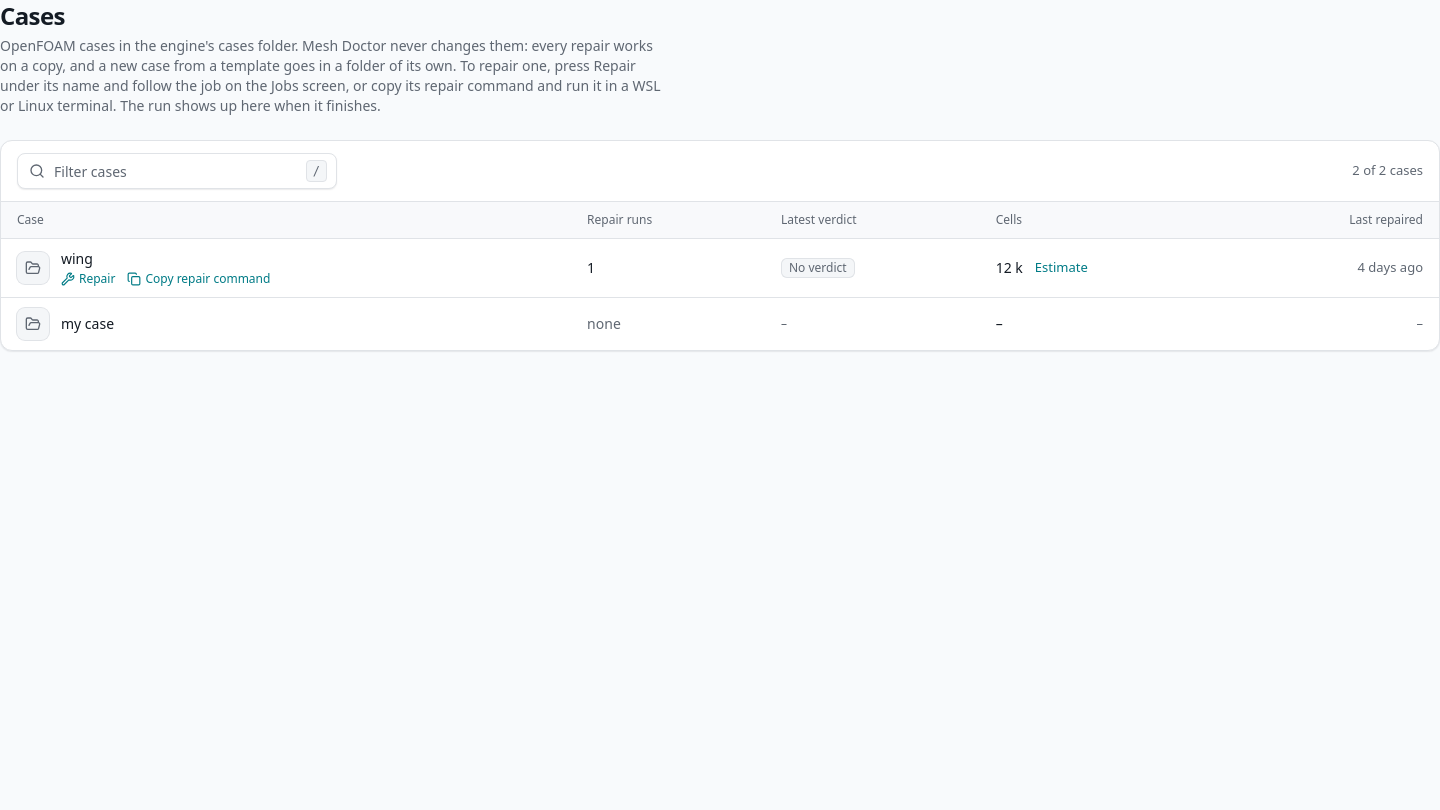
Test: starting a repair from the Cases screen › won't start a run with a name that's taken or that the engine refuses, and says why
Click the button with aria-label "Repair wing" at (88, 278), box x1=61 y1=270 x2=115 y2=286
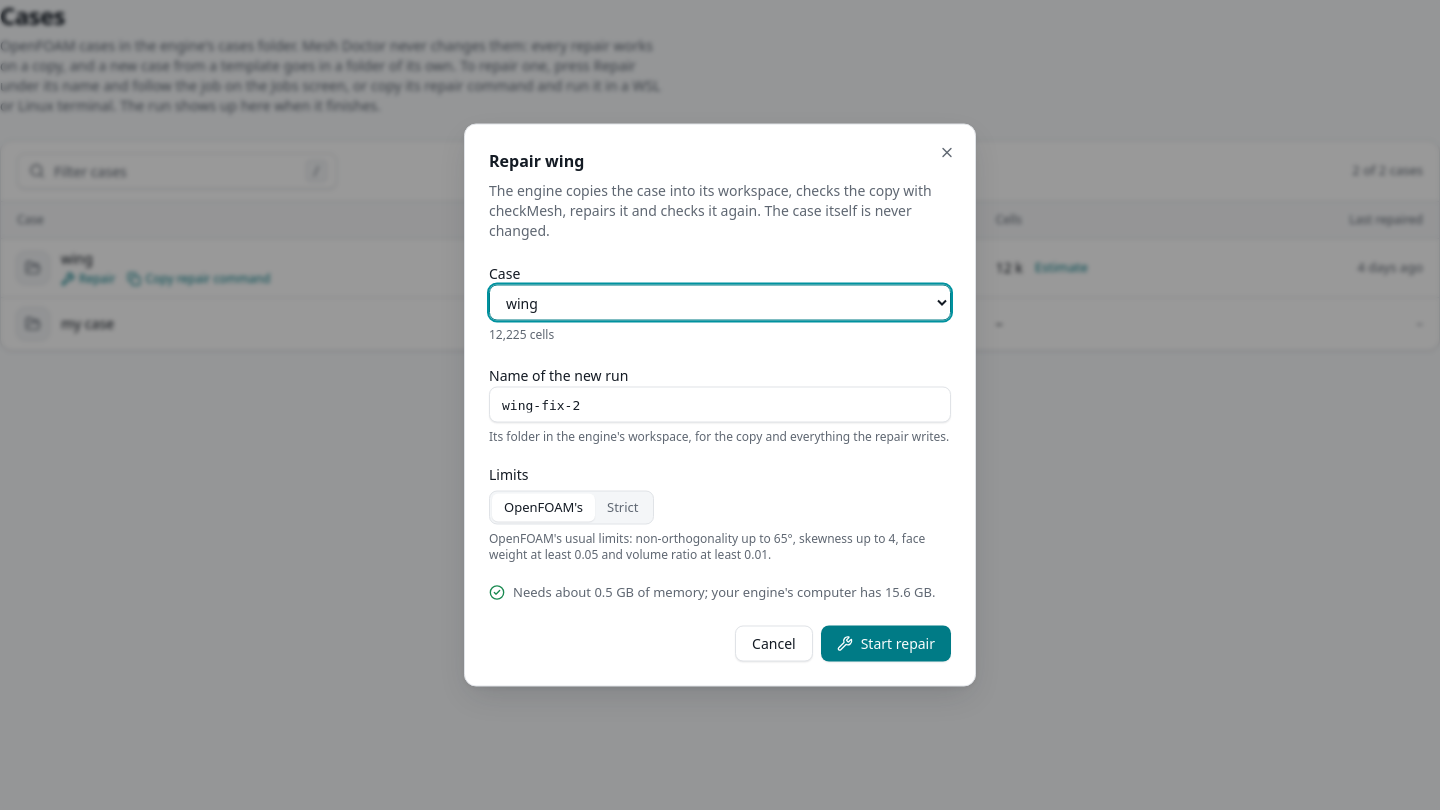
Replace the text in the field labelled "Name of the new run" with "wing-fix" at (720, 404), box x1=489 y1=386 x2=951 y2=422
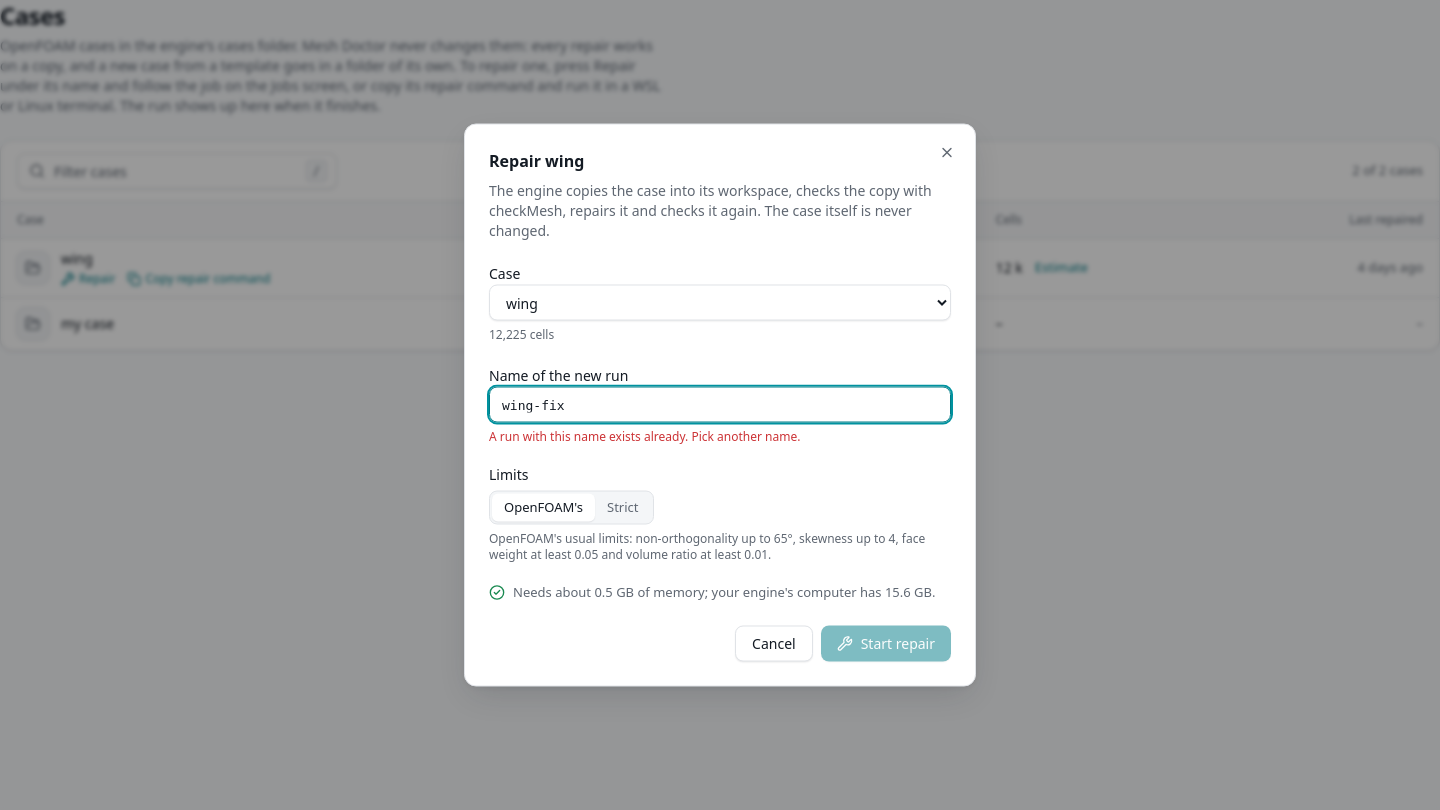
Check: the button "Start repair" is disabled, box x1=821 y1=626 x2=951 y2=662
Replace the text in the field labelled "Name of the new run" with "wing fix" at (720, 404), box x1=489 y1=386 x2=951 y2=422
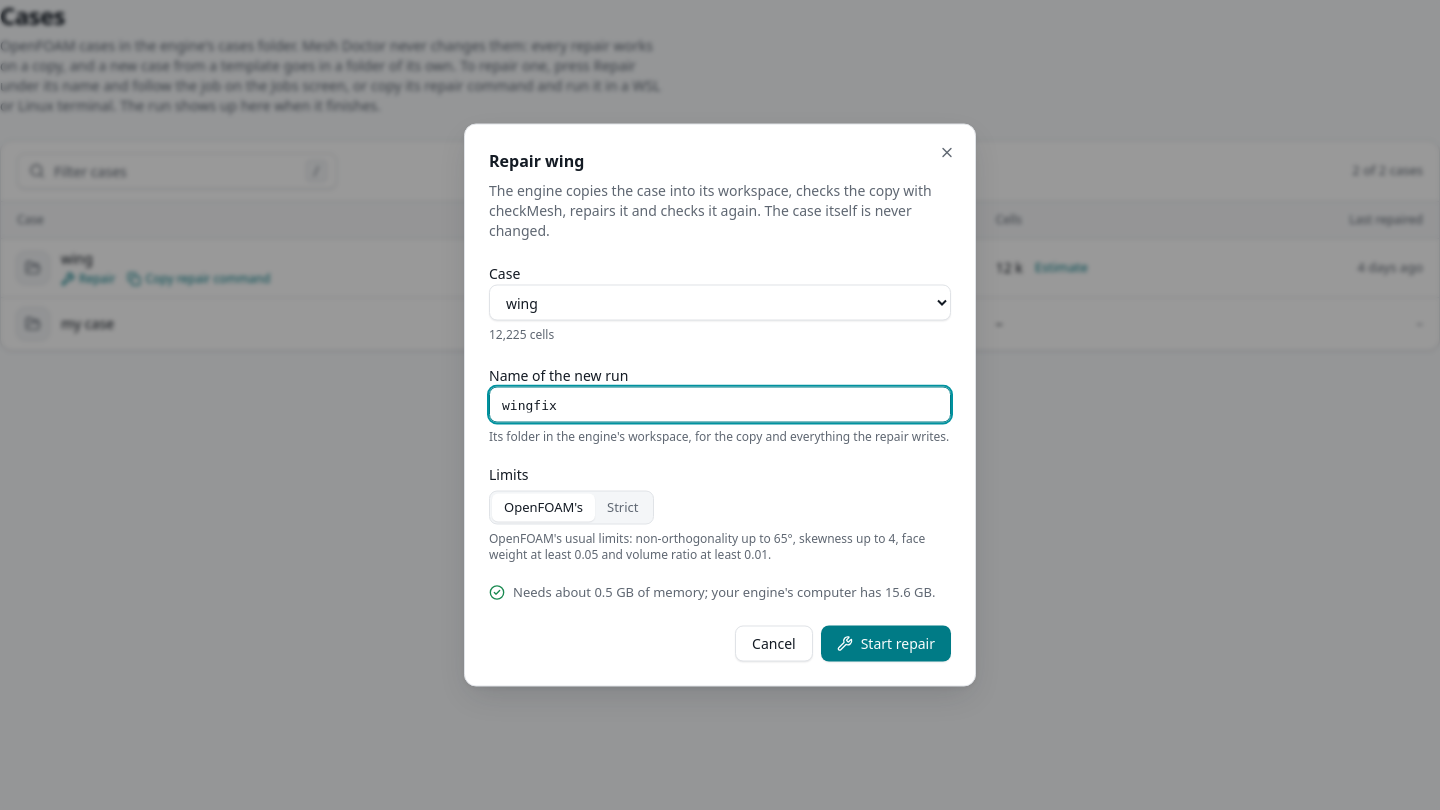
Check: the field labelled "Name of the new run" holds "wingfix", box x1=489 y1=386 x2=951 y2=422
Check: the button "Start repair" is enabled, box x1=821 y1=626 x2=951 y2=662
